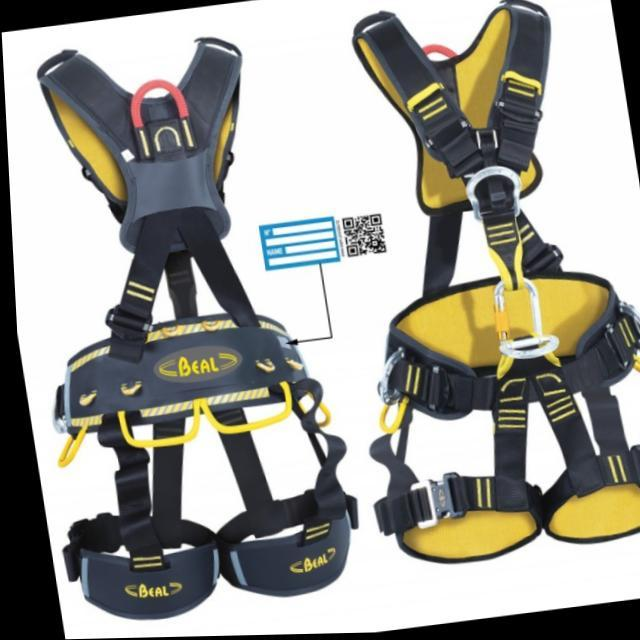belt: (1, 14, 373, 628), (295, 0, 640, 584)
